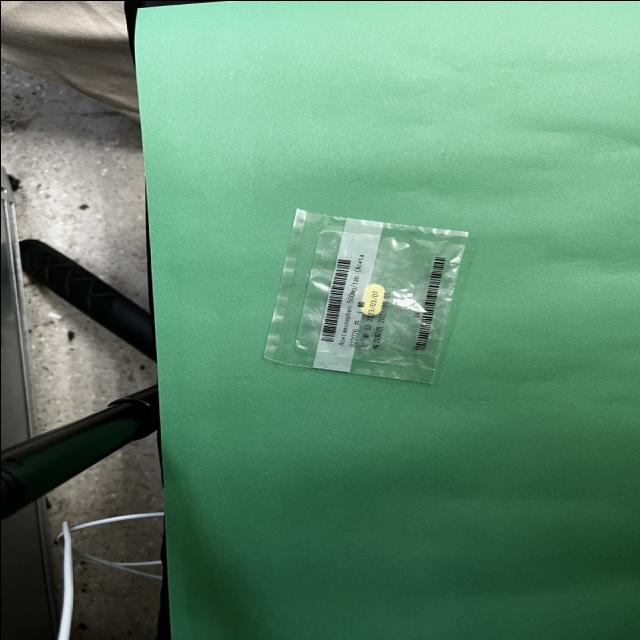Other Objects: (263, 208, 466, 382)
